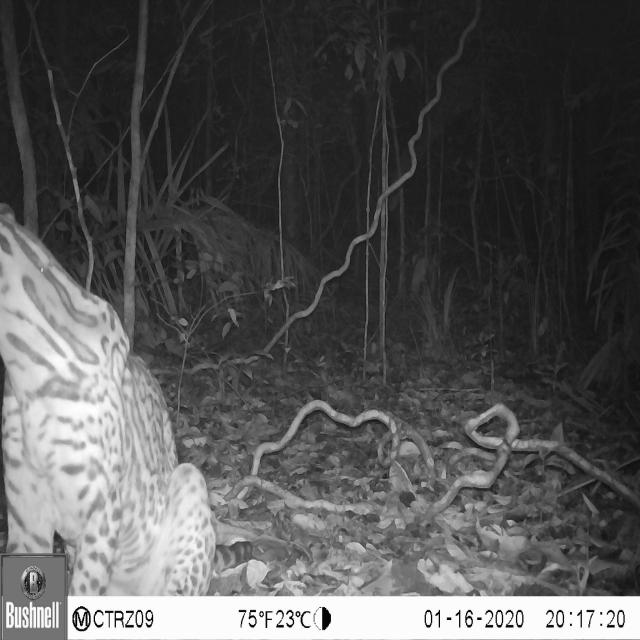Ocelote: (0, 194, 231, 598)
